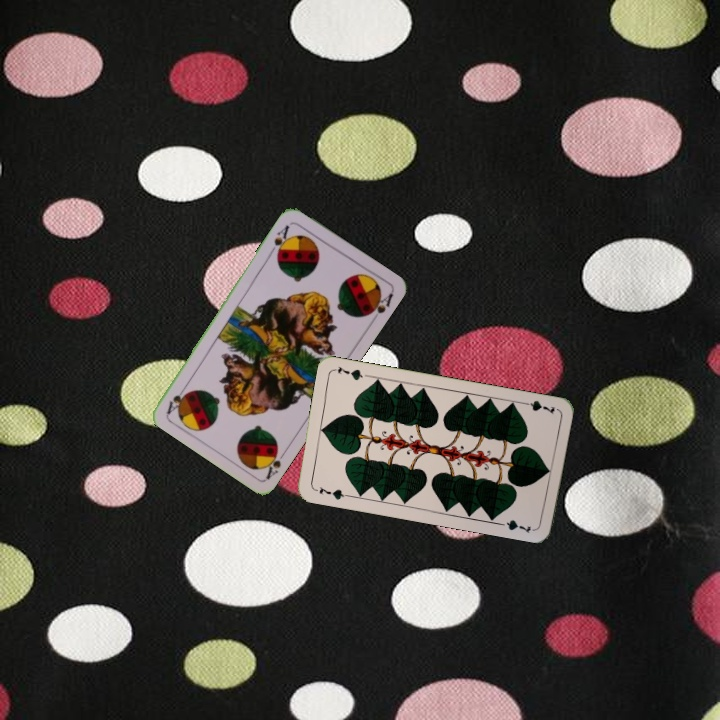G7: (517, 396, 557, 417), (310, 483, 351, 502)
SA: (258, 442, 289, 482), (266, 220, 292, 259)
